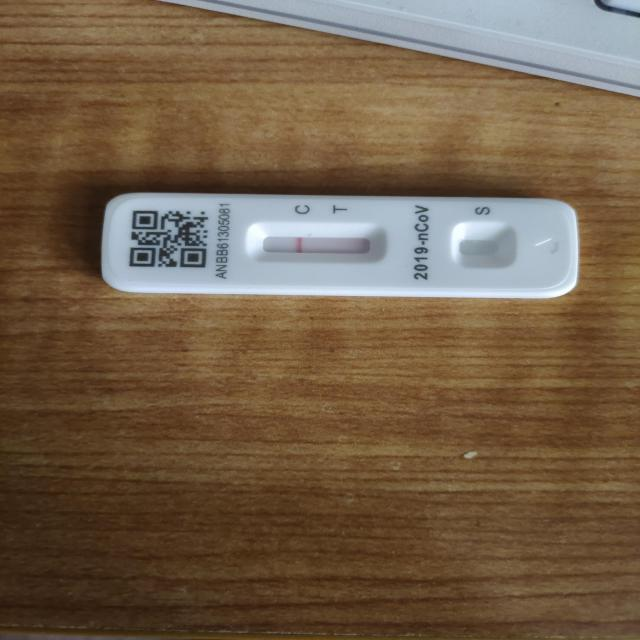qr_code: (130, 208, 212, 268)
